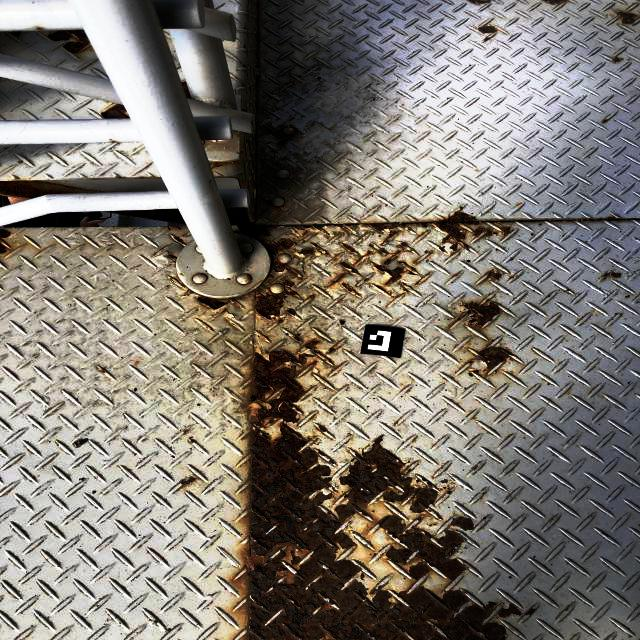Corrosion: (250, 352, 518, 640), (274, 206, 480, 258), (334, 432, 416, 522), (378, 511, 470, 585), (241, 276, 299, 325), (0, 179, 108, 200), (465, 343, 515, 376), (263, 238, 304, 278), (368, 260, 431, 286), (456, 299, 502, 327), (352, 248, 414, 266), (47, 30, 91, 54), (326, 261, 358, 289), (196, 295, 244, 311), (449, 510, 477, 532), (100, 104, 130, 119), (495, 603, 523, 619), (612, 10, 639, 25), (254, 224, 273, 245), (489, 222, 515, 237), (215, 176, 243, 189), (296, 247, 328, 258), (395, 280, 414, 298), (434, 479, 455, 495), (471, 226, 498, 237), (292, 229, 312, 243), (278, 130, 296, 145), (304, 339, 321, 354), (263, 198, 286, 209), (374, 284, 394, 296), (341, 281, 358, 295), (318, 451, 335, 465), (210, 161, 237, 169), (217, 308, 236, 319), (153, 244, 169, 257), (486, 269, 503, 281), (181, 81, 192, 99), (173, 234, 188, 247), (602, 271, 623, 280), (181, 475, 197, 486), (478, 25, 497, 34), (524, 606, 538, 617), (263, 274, 274, 287), (166, 250, 177, 263), (415, 230, 428, 240), (542, 0, 568, 5), (246, 207, 254, 223), (8, 31, 24, 39), (327, 343, 338, 354), (0, 228, 11, 239), (343, 244, 356, 253), (612, 55, 624, 64), (182, 288, 194, 297), (0, 239, 7, 254), (285, 308, 297, 316), (318, 425, 328, 434), (606, 216, 623, 221), (396, 242, 408, 249), (335, 363, 344, 372), (291, 334, 301, 342), (415, 473, 421, 484), (435, 512, 443, 520), (134, 177, 162, 179), (308, 293, 316, 300), (260, 334, 268, 341), (226, 319, 234, 326), (483, 36, 492, 42), (564, 605, 571, 612), (199, 311, 207, 317), (424, 250, 433, 255), (471, 464, 478, 470), (411, 436, 418, 442), (170, 278, 177, 284), (89, 178, 109, 180), (205, 327, 213, 332), (288, 227, 294, 233), (311, 243, 318, 248), (247, 274, 252, 281), (368, 243, 375, 248), (315, 366, 320, 373), (416, 517, 423, 522), (116, 176, 127, 179), (413, 259, 418, 265), (393, 420, 399, 425), (427, 523, 437, 526), (183, 429, 189, 434), (312, 232, 319, 236), (602, 119, 609, 123), (363, 277, 368, 282), (327, 359, 332, 364), (174, 227, 182, 230), (624, 295, 631, 298), (258, 76, 261, 83), (166, 226, 171, 230), (333, 258, 338, 262), (482, 516, 487, 520), (101, 368, 105, 373), (190, 439, 195, 443), (36, 27, 42, 30), (111, 140, 116, 143), (110, 103, 115, 106), (510, 276, 515, 279), (428, 509, 432, 512), (566, 289, 570, 292), (328, 127, 332, 130), (544, 219, 549, 221), (517, 203, 522, 205), (135, 361, 140, 363), (482, 492, 485, 495), (455, 274, 458, 277), (473, 417, 477, 419), (109, 138, 112, 140), (166, 285, 169, 287), (372, 510, 374, 512)
